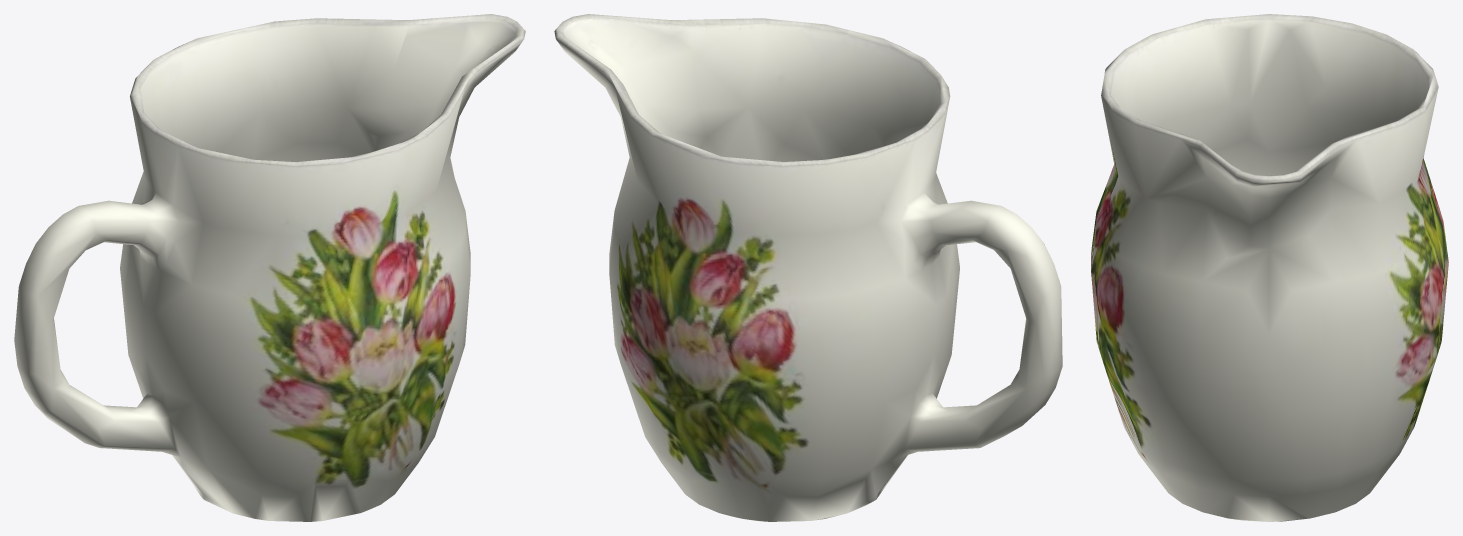
The model's file is jug_01.glb.
3 renders of one model, left to right at view 1: azimuth 30°, elevation 25°; view 2: azimuth 150°, elevation 25°; view 3: azimuth 270°, elevation 25°, orthographic.
Visible parts, largest first — view 1: jug_01; view 2: jug_01; view 3: jug_01.
Boxes of the visible parts, x1=… form: jug_01: x1=14, y1=14, x2=525, y2=521; jug_01: x1=554, y1=14, x2=1062, y2=521; jug_01: x1=1091, y1=14, x2=1448, y2=521.
Bounding box in the file's own units: 0.275 × 0.2113 × 0.1668.
1 material, 1 textured.
